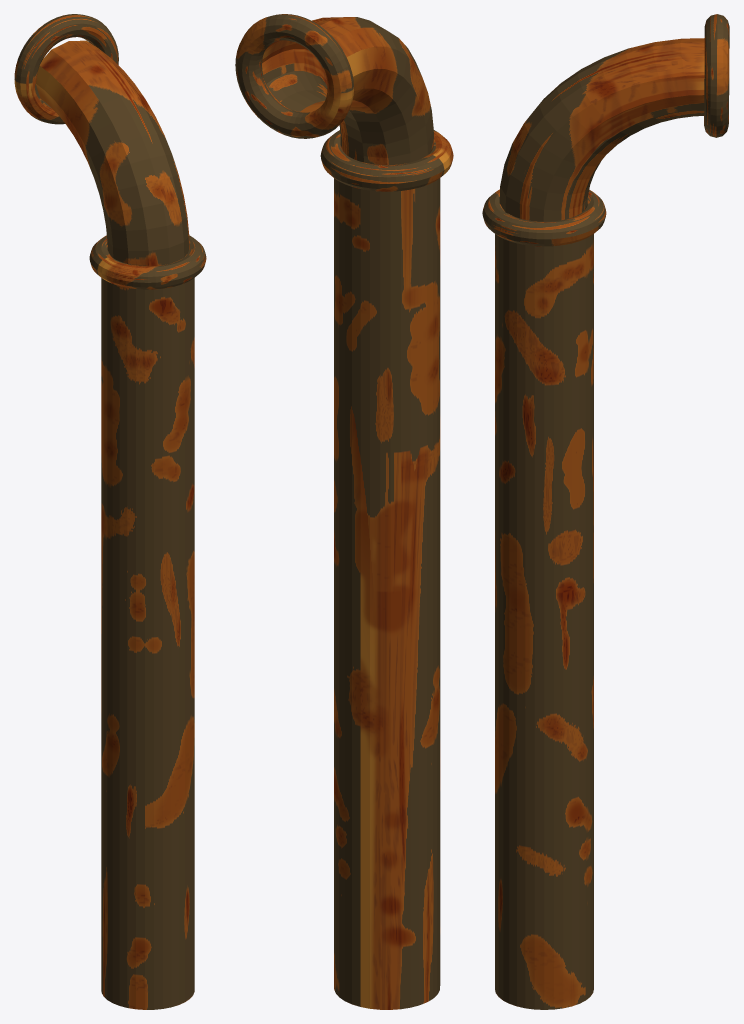
The model's file is pipe.glb.
3 renders of one model, left to right at view 1: azimuth 30°, elevation 25°; view 2: azimuth 150°, elevation 25°; view 3: azimuth 270°, elevation 25°, orthographic. The views are drawn at different scales.
Parts seen in each view (by area): view 1: Torus.003; view 2: Torus.003; view 3: Torus.003.
Boxes of the visible parts, x1,y1,x2,y2 form: Torus.003: [14, 14, 206, 1009]; Torus.003: [235, 14, 453, 1009]; Torus.003: [482, 14, 729, 1009].
Bounding box in the file's own units: 2.5 × 21.56 × 4.98.
Materials: 1 (1 with a texture image).
